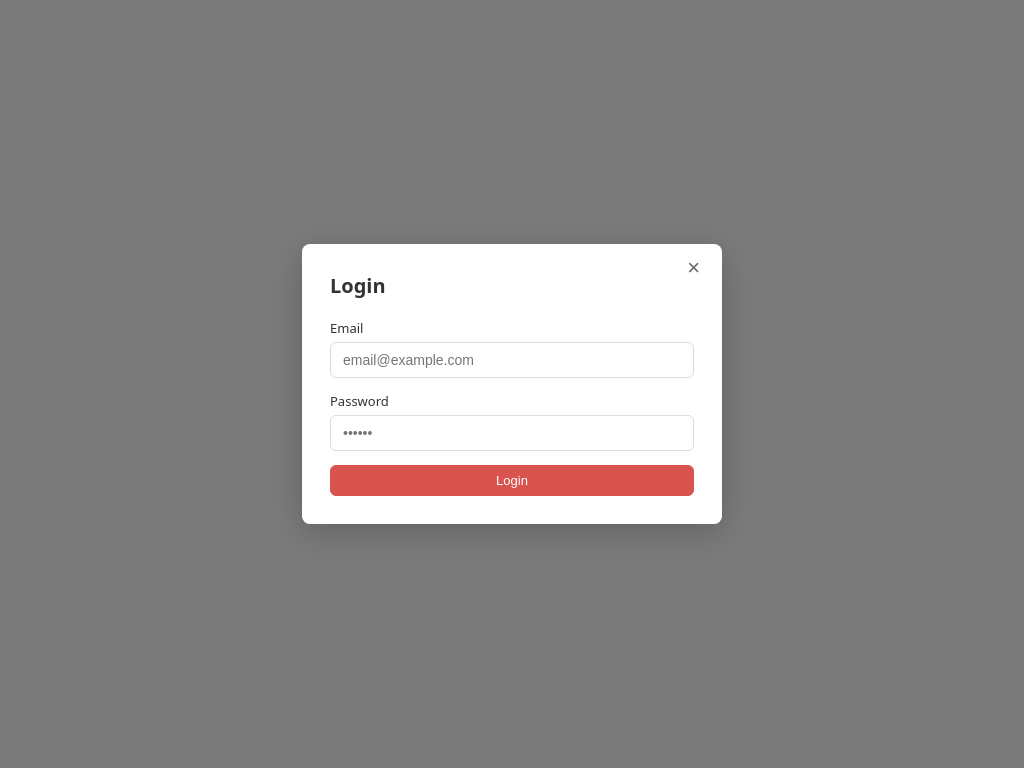
AuthModal - Login mode › shows error on failed login
Type "bad@example.com" into the field with placeholder "email@example.com" at (512, 360), box [330,342,694,378]
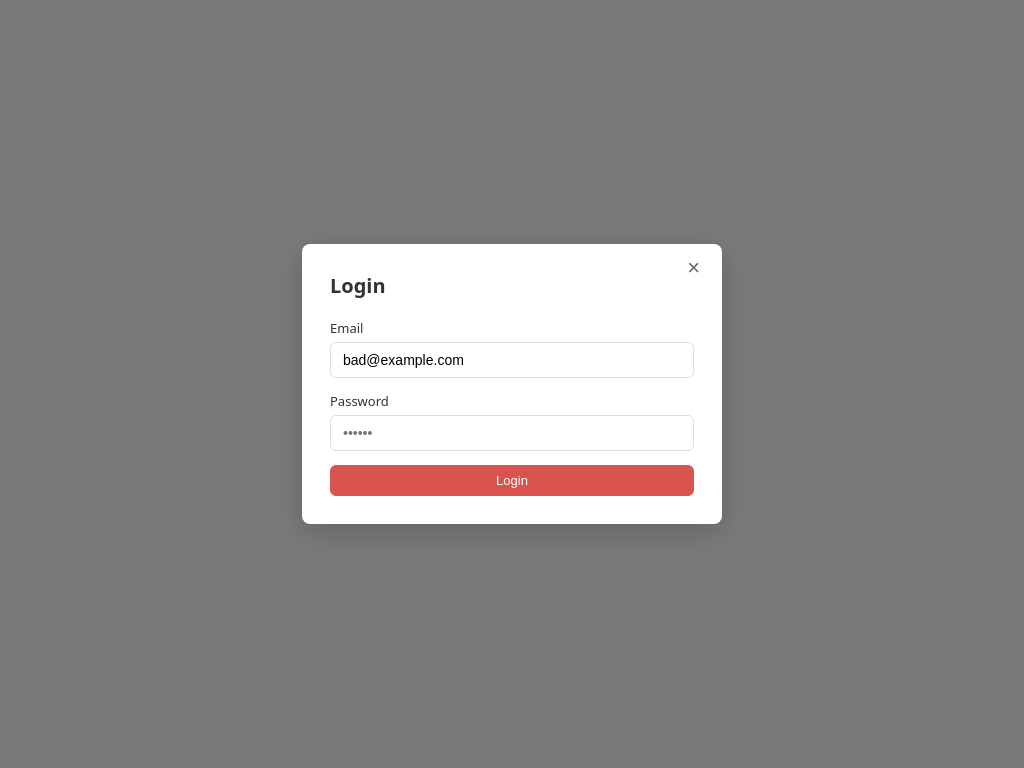
Type "wrongpass" into the password field with placeholder "••••••" at (512, 433), box [330,415,694,451]
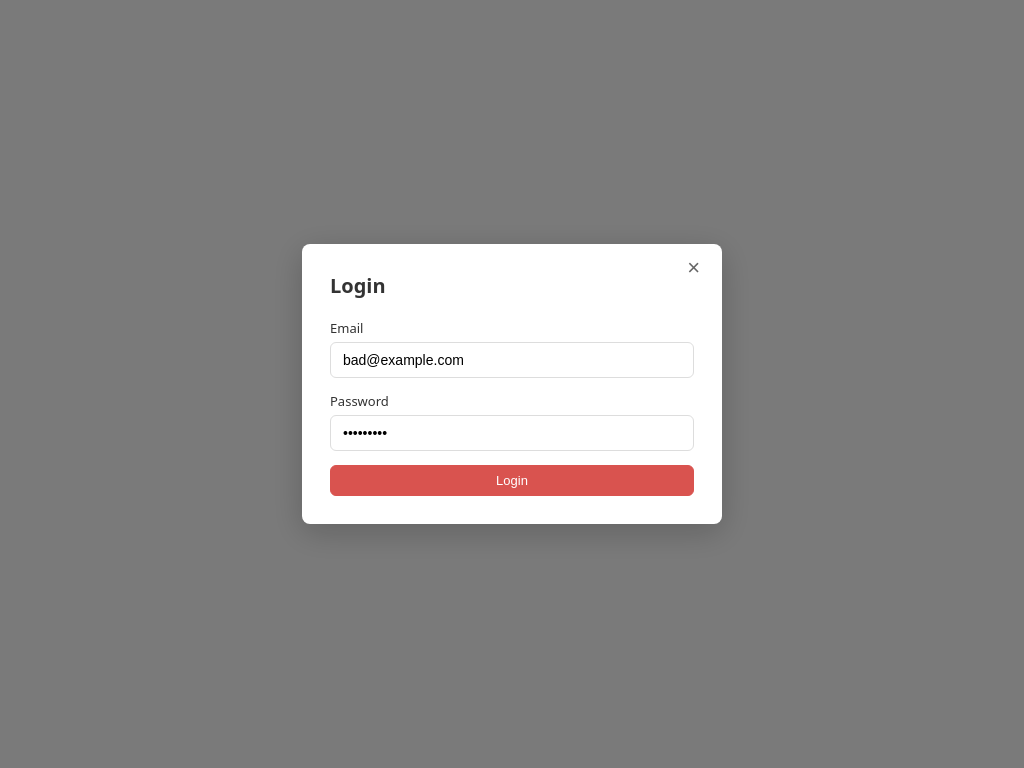
Click the button "Login" at (512, 480), box [330,465,694,496]
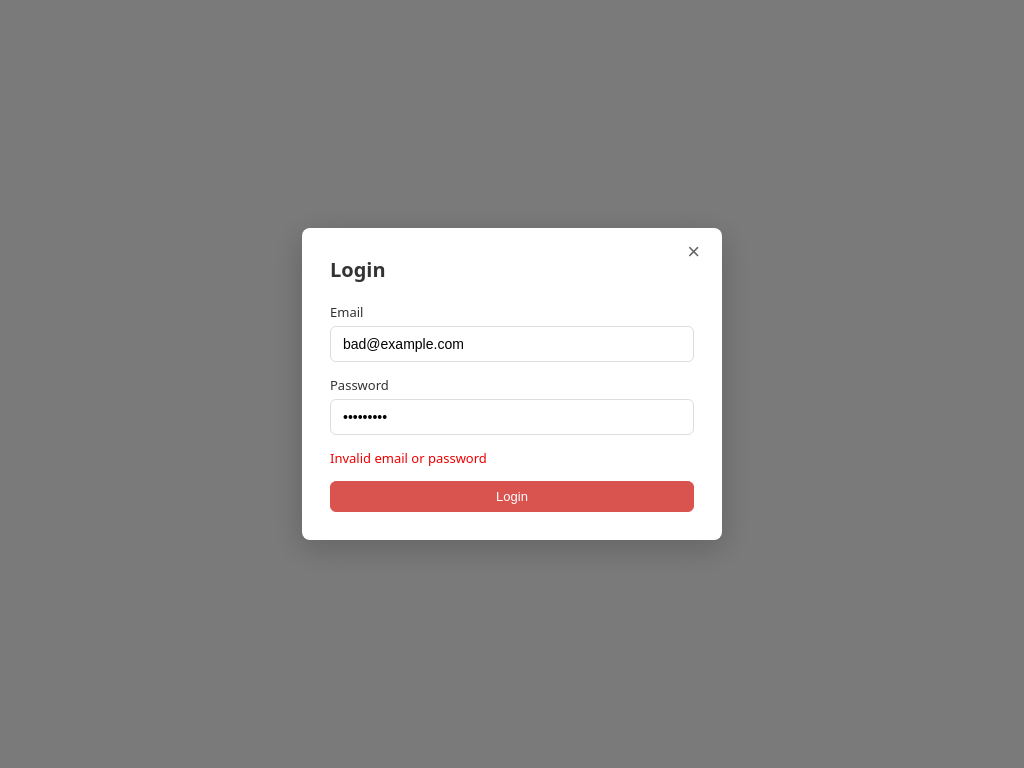
expect the text "Invalid email or password" is shown: met, box [330,449,487,467]
